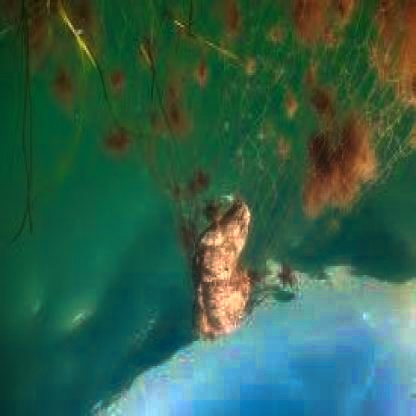net: (263, 2, 416, 257)
